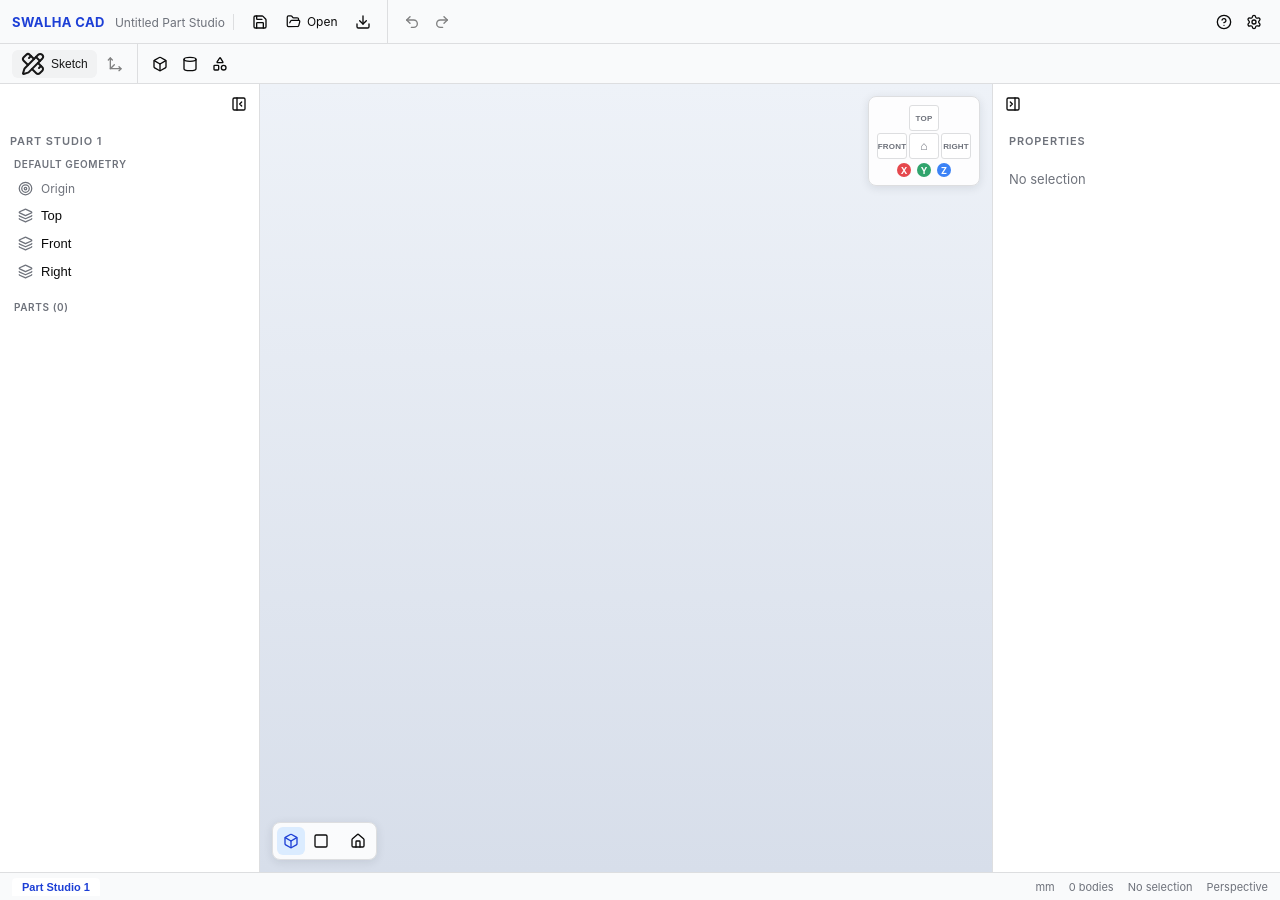
it: App › collapses and re-expands the left feature tree panel
The width and height of the screenshot is (1280, 900).
What coordinates should you click on to do the following:
click the button named "Collapse Feature Tree"
I would click on:
 (239, 104)
Its box is [225, 90, 253, 118].
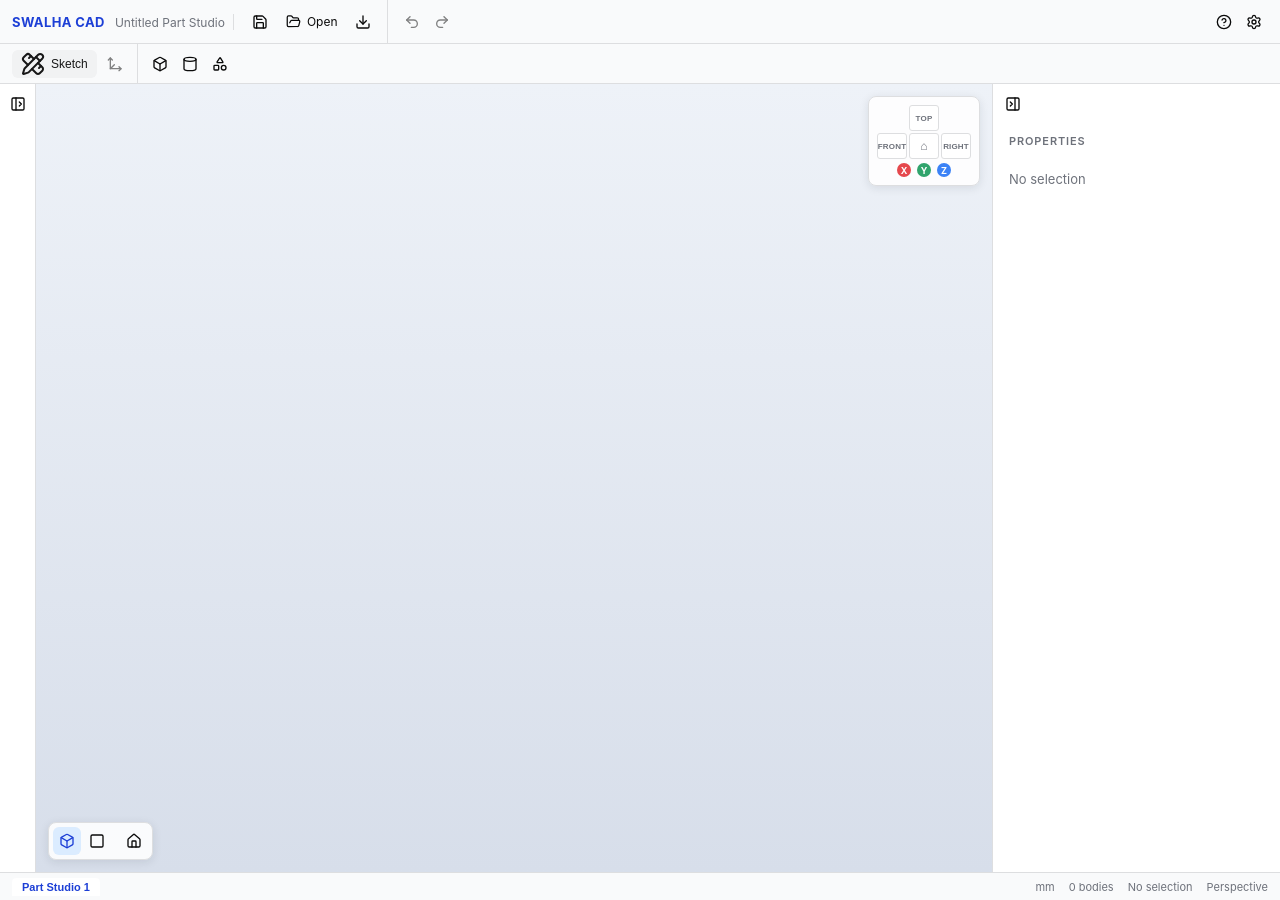
What coordinates should you click on to do the following:
click the button named "Expand Feature Tree"
I would click on:
 (18, 104)
Its box is [6, 90, 29, 118].
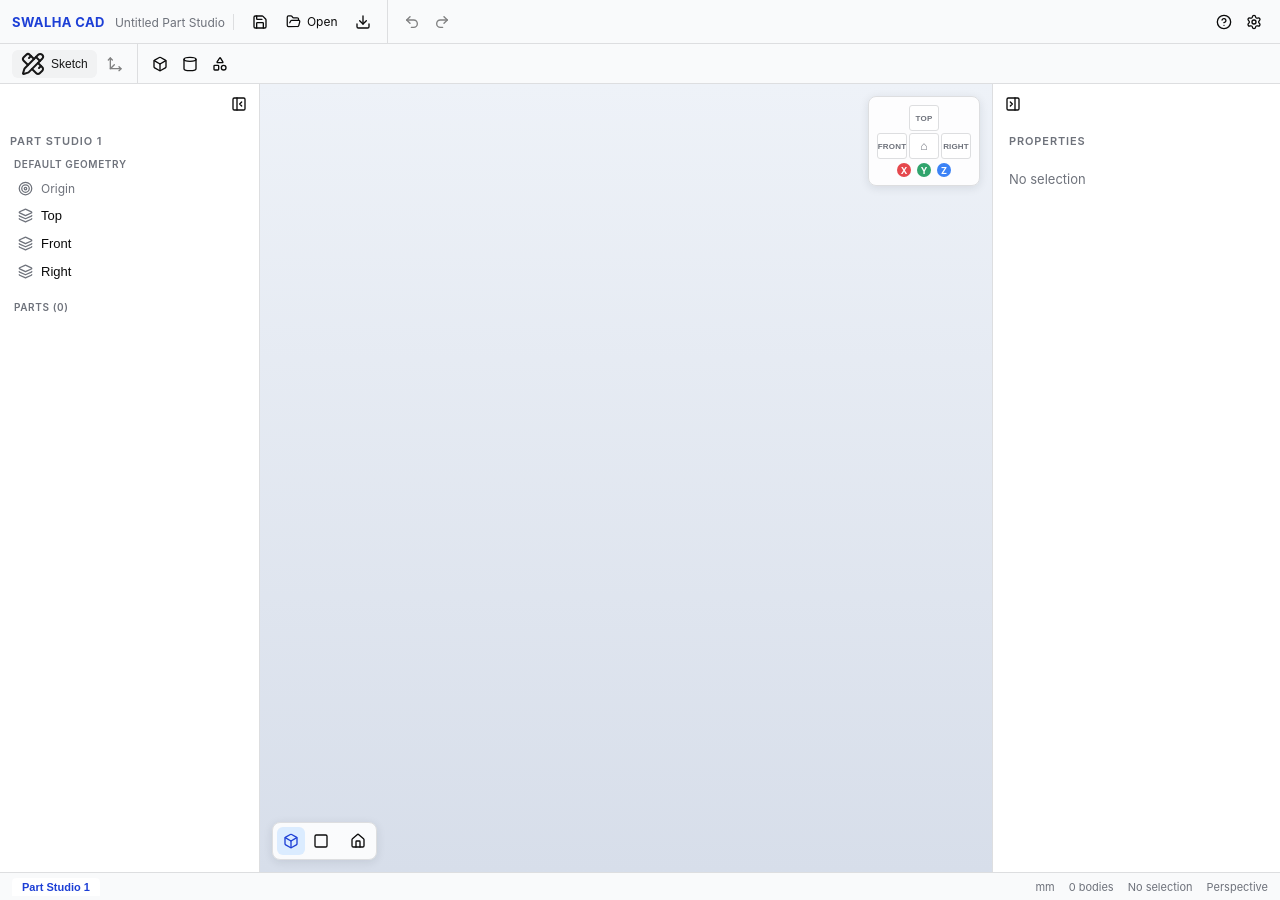
Expected: the navigation bar named "Scene tree" is shown, [0, 118, 259, 335]
